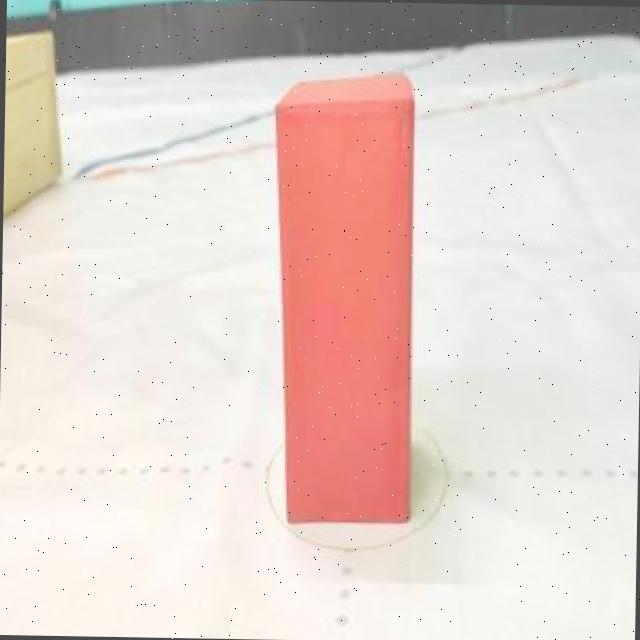redbox: (266, 71, 419, 523)
